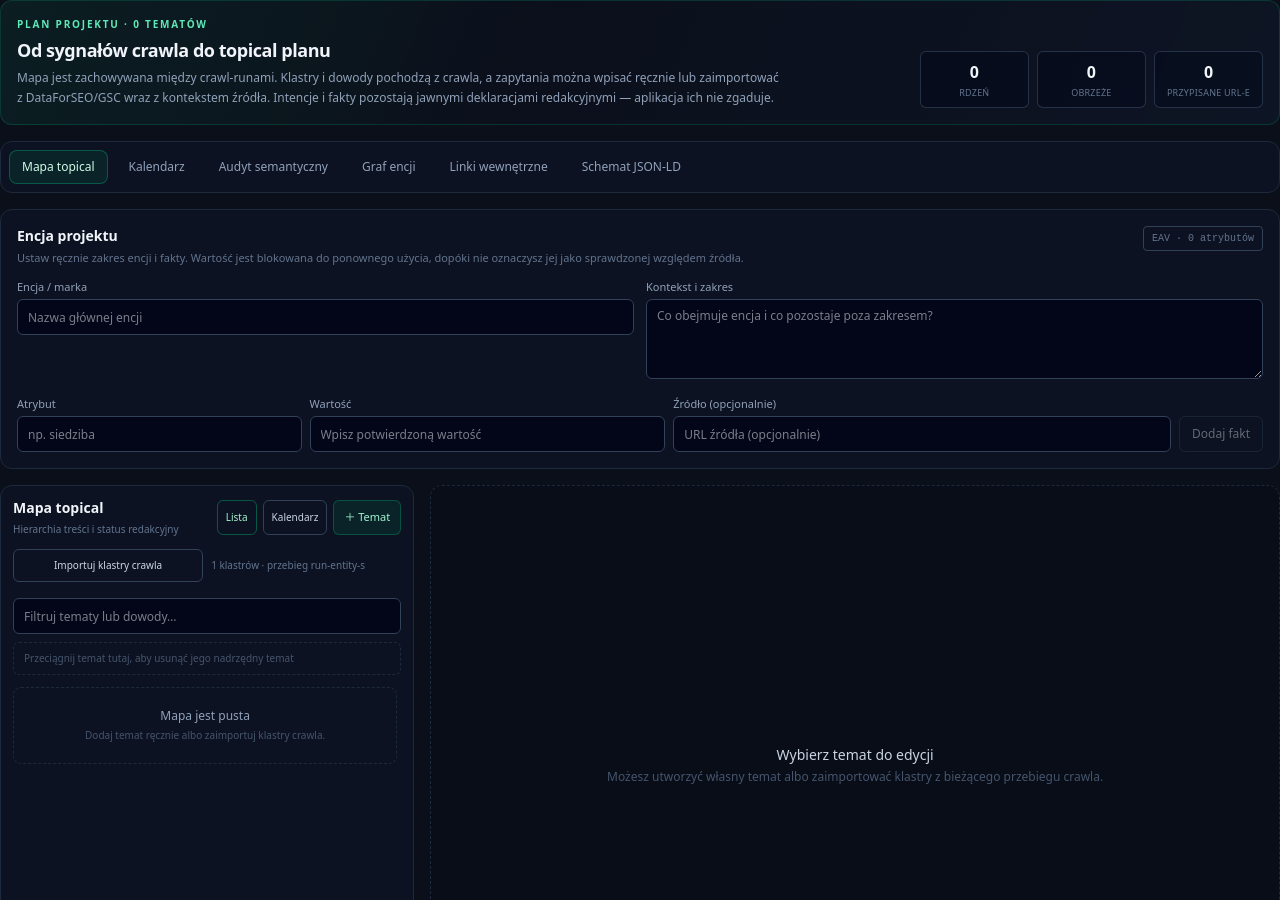
Test: SemanticTopicalWorkspace › renders structured-data evidence as a separate graph layer
The width and height of the screenshot is (1280, 900).
Step 1. Type "Coffee" into the field labelled "Encja / marka" → (326, 317), box [17,299,634,335]
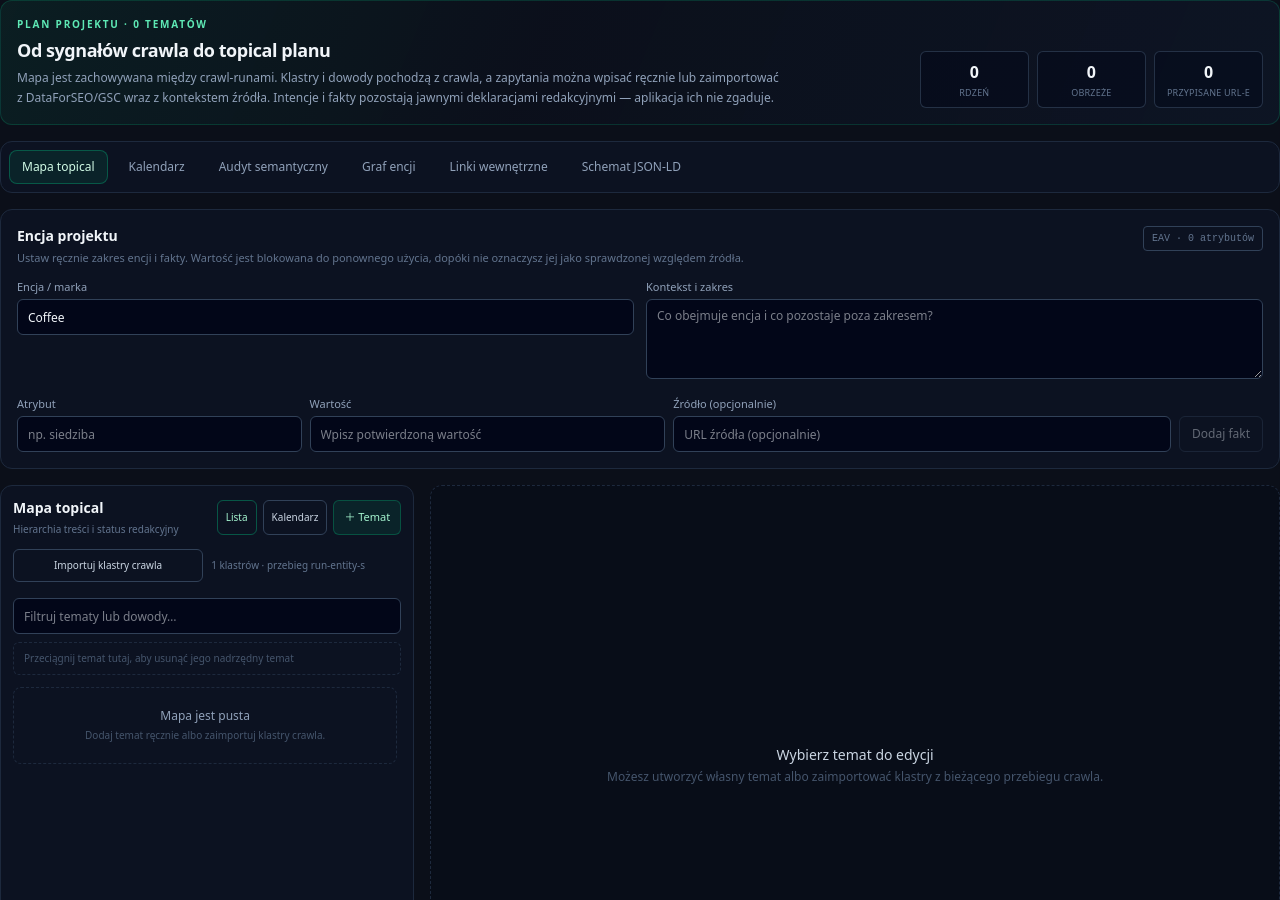
Step 2. Click the tab "Graf encji" → (389, 167), box [349,150,429,184]
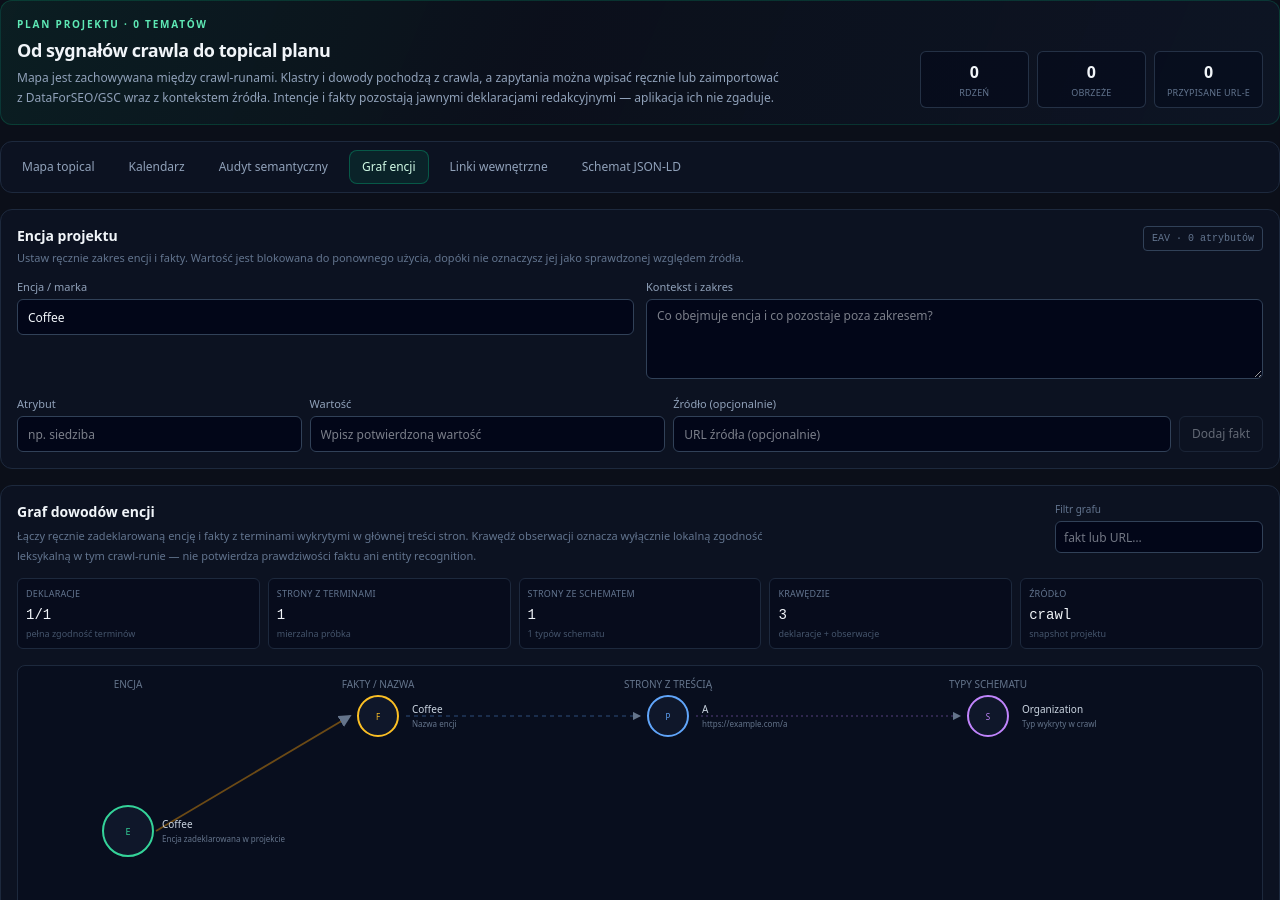
Expected: the text "TYPY SCHEMATU" is shown, [949,677,1027,691]
Result: the text "1 typów schematu" is shown at [528,626,605,640]
